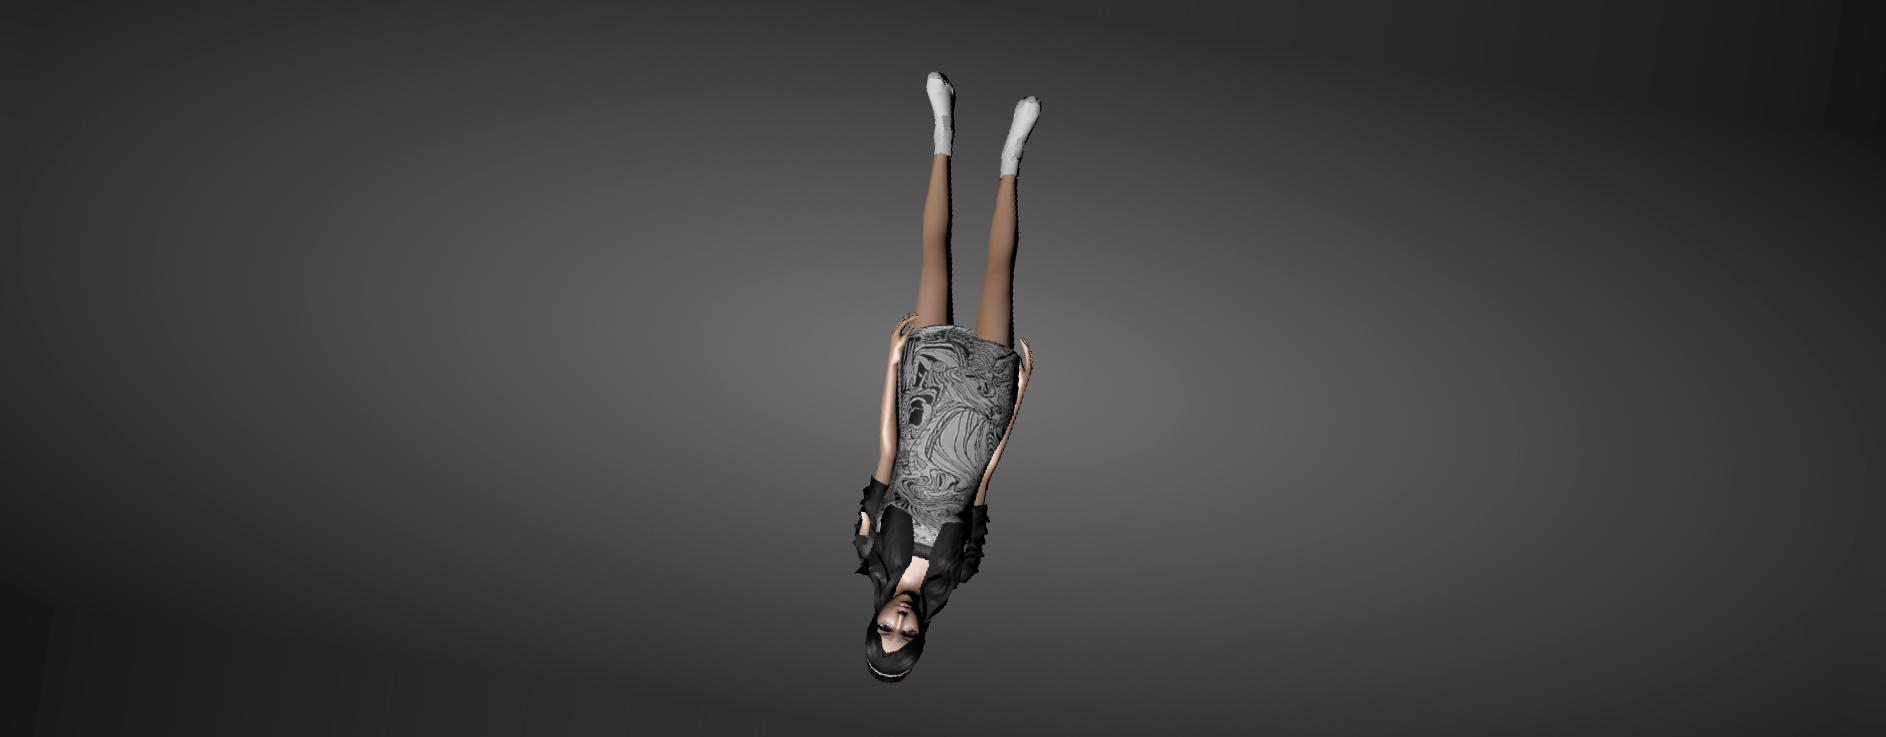clip: (858, 505, 876, 543)
